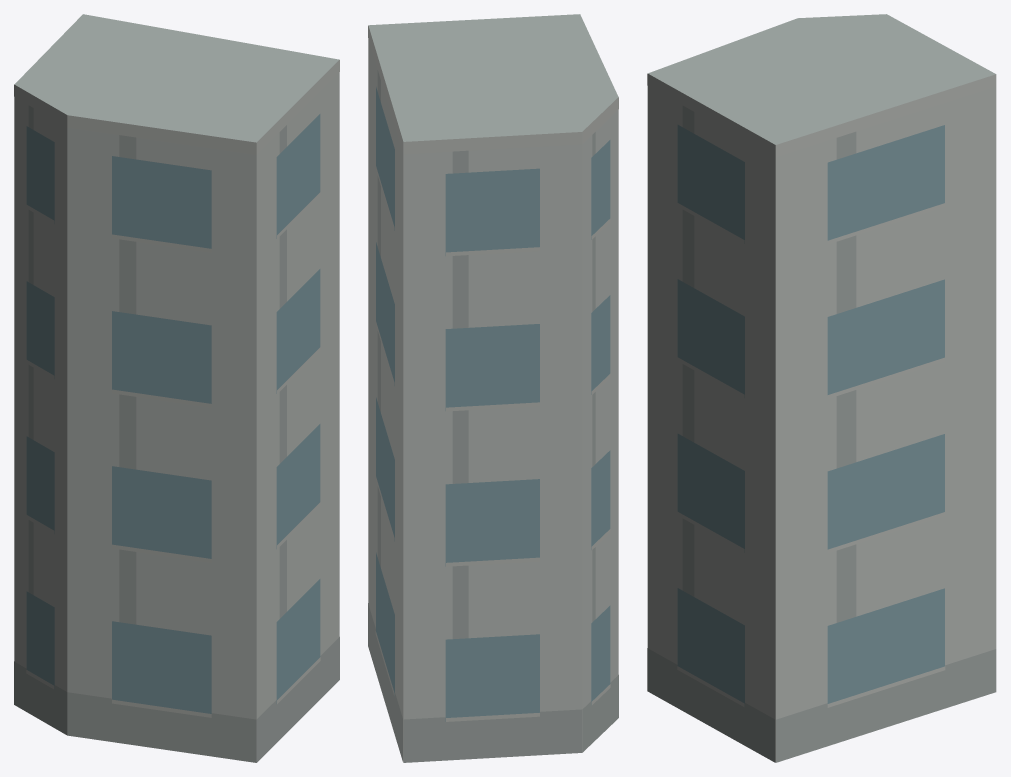
File: survey-upis-32926536.glb
3 views of the same model, side by side, from view 1: azimuth 30°, elevation 25°; view 2: azimuth 150°, elevation 25°; view 3: azimuth 270°, elevation 25° (orthographic).
Parts seen in each view (by area): view 1: survey-upis-32926536.tmp; view 2: survey-upis-32926536.tmp; view 3: survey-upis-32926536.tmp.
Part boxes in pixels (x1=…): survey-upis-32926536.tmp: x1=14, y1=14, x2=339, y2=762; survey-upis-32926536.tmp: x1=368, y1=14, x2=618, y2=762; survey-upis-32926536.tmp: x1=647, y1=14, x2=996, y2=762.
Size of the model in its own units: 5.56 by 12.2 by 6.25.
